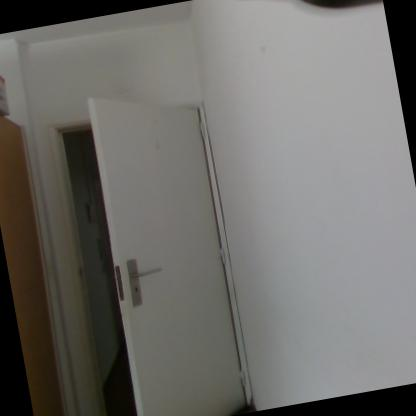semi: (21, 74, 264, 415)
